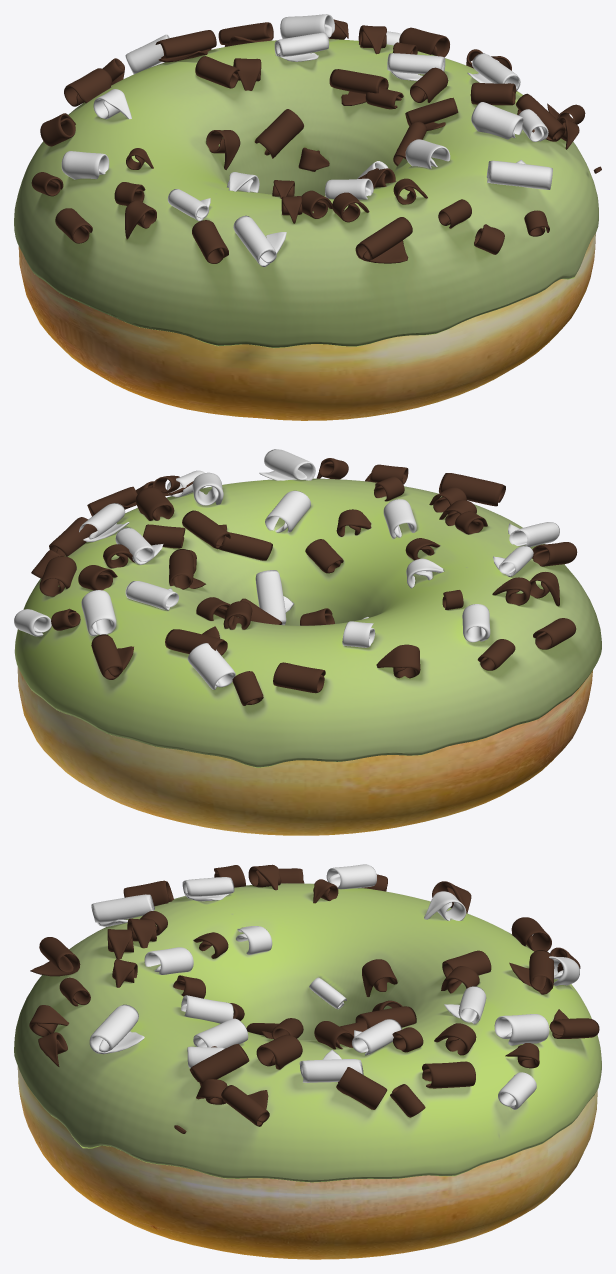
Rendered from pistachio two in one curls.glb.
3 renders of one model, top to bottom at view 1: azimuth 30°, elevation 25°; view 2: azimuth 150°, elevation 25°; view 3: azimuth 270°, elevation 25°, orthographic. The views are drawn at different scales.
Parts seen in each view (by area): view 1: coffee.001, pustachio, two in one curls, Torus; view 2: pustachio, coffee.001, two in one curls, Torus; view 3: pustachio, coffee.001, two in one curls, Torus.
Boxes of the visible parts, x1=… form: coffee.001: x1=14, y1=39, x2=598, y2=347; pustachio: x1=15, y1=39, x2=598, y2=348; two in one curls: x1=31, y1=14, x2=601, y2=267; Torus: x1=18, y1=233, x2=595, y2=420; pustachio: x1=15, y1=479, x2=585, y2=767; coffee.001: x1=14, y1=478, x2=601, y2=767; two in one curls: x1=14, y1=449, x2=577, y2=705; Torus: x1=17, y1=667, x2=592, y2=835; pustachio: x1=48, y1=883, x2=601, y2=1182; coffee.001: x1=14, y1=883, x2=601, y2=1182; two in one curls: x1=29, y1=864, x2=599, y2=1133; Torus: x1=17, y1=1066, x2=597, y2=1259.
Bounding box in the file's own units: 0.1989 × 0.0804 × 0.1972.
Materials: 5 (2 with a texture image).
